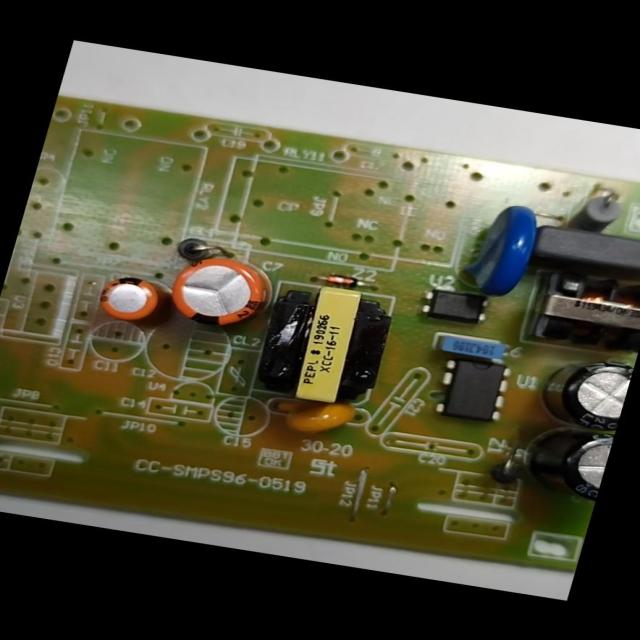Cap1: (153, 239, 284, 343)
Cap2: (78, 261, 177, 334)
Cap3: (521, 344, 635, 434)
Cap4: (490, 412, 616, 505)
MOSFET: (425, 347, 520, 428)
Mov: (449, 190, 552, 304)
Resistor: (555, 179, 635, 239)
Transformer: (238, 273, 400, 422), (514, 258, 640, 357)
